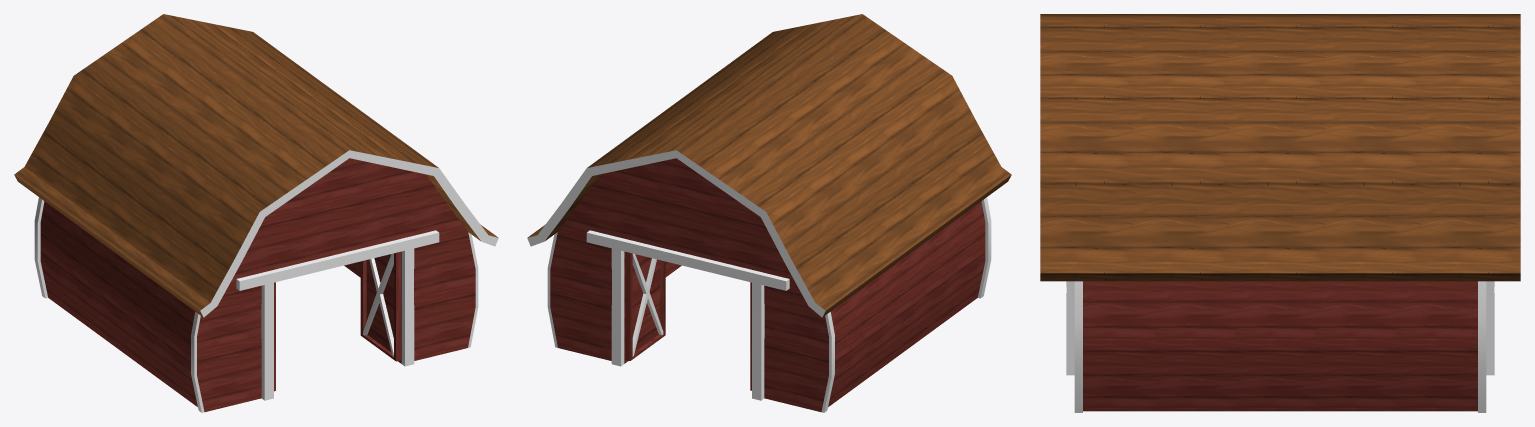
File: Barn_Temp.FBX
3 views of the same model, side by side, from view 1: azimuth 30°, elevation 25°; view 2: azimuth 150°, elevation 25°; view 3: azimuth 270°, elevation 25° (orthographic). The views are drawn at different scales.
Visible parts, largest first — view 1: Barn, Door4; view 2: Barn, Door3; view 3: Barn.
Boxes of the visible parts, box(x1,y1,x2,y2) form: Barn: box(14, 14, 498, 412); Door4: box(360, 251, 400, 361); Barn: box(527, 14, 1011, 412); Door3: box(625, 252, 665, 360); Barn: box(1040, 14, 1520, 412).
Bounding box in the file's own units: 537 × 411 × 579.
3 materials, 2 textured.
